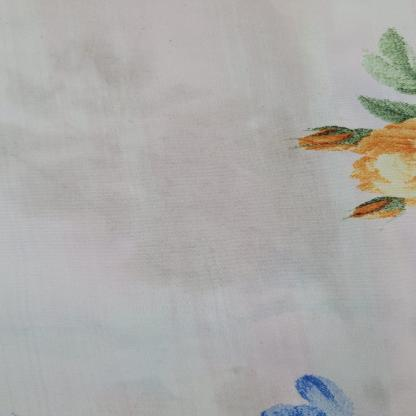spot: (129, 235, 229, 292), (84, 42, 125, 87)
